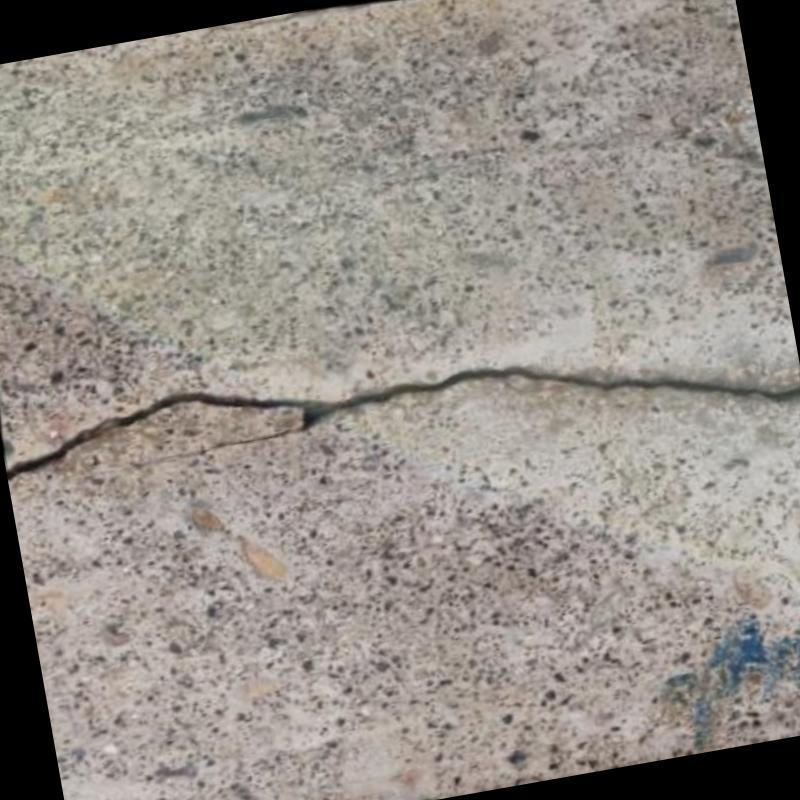crack: (5, 364, 800, 478)
